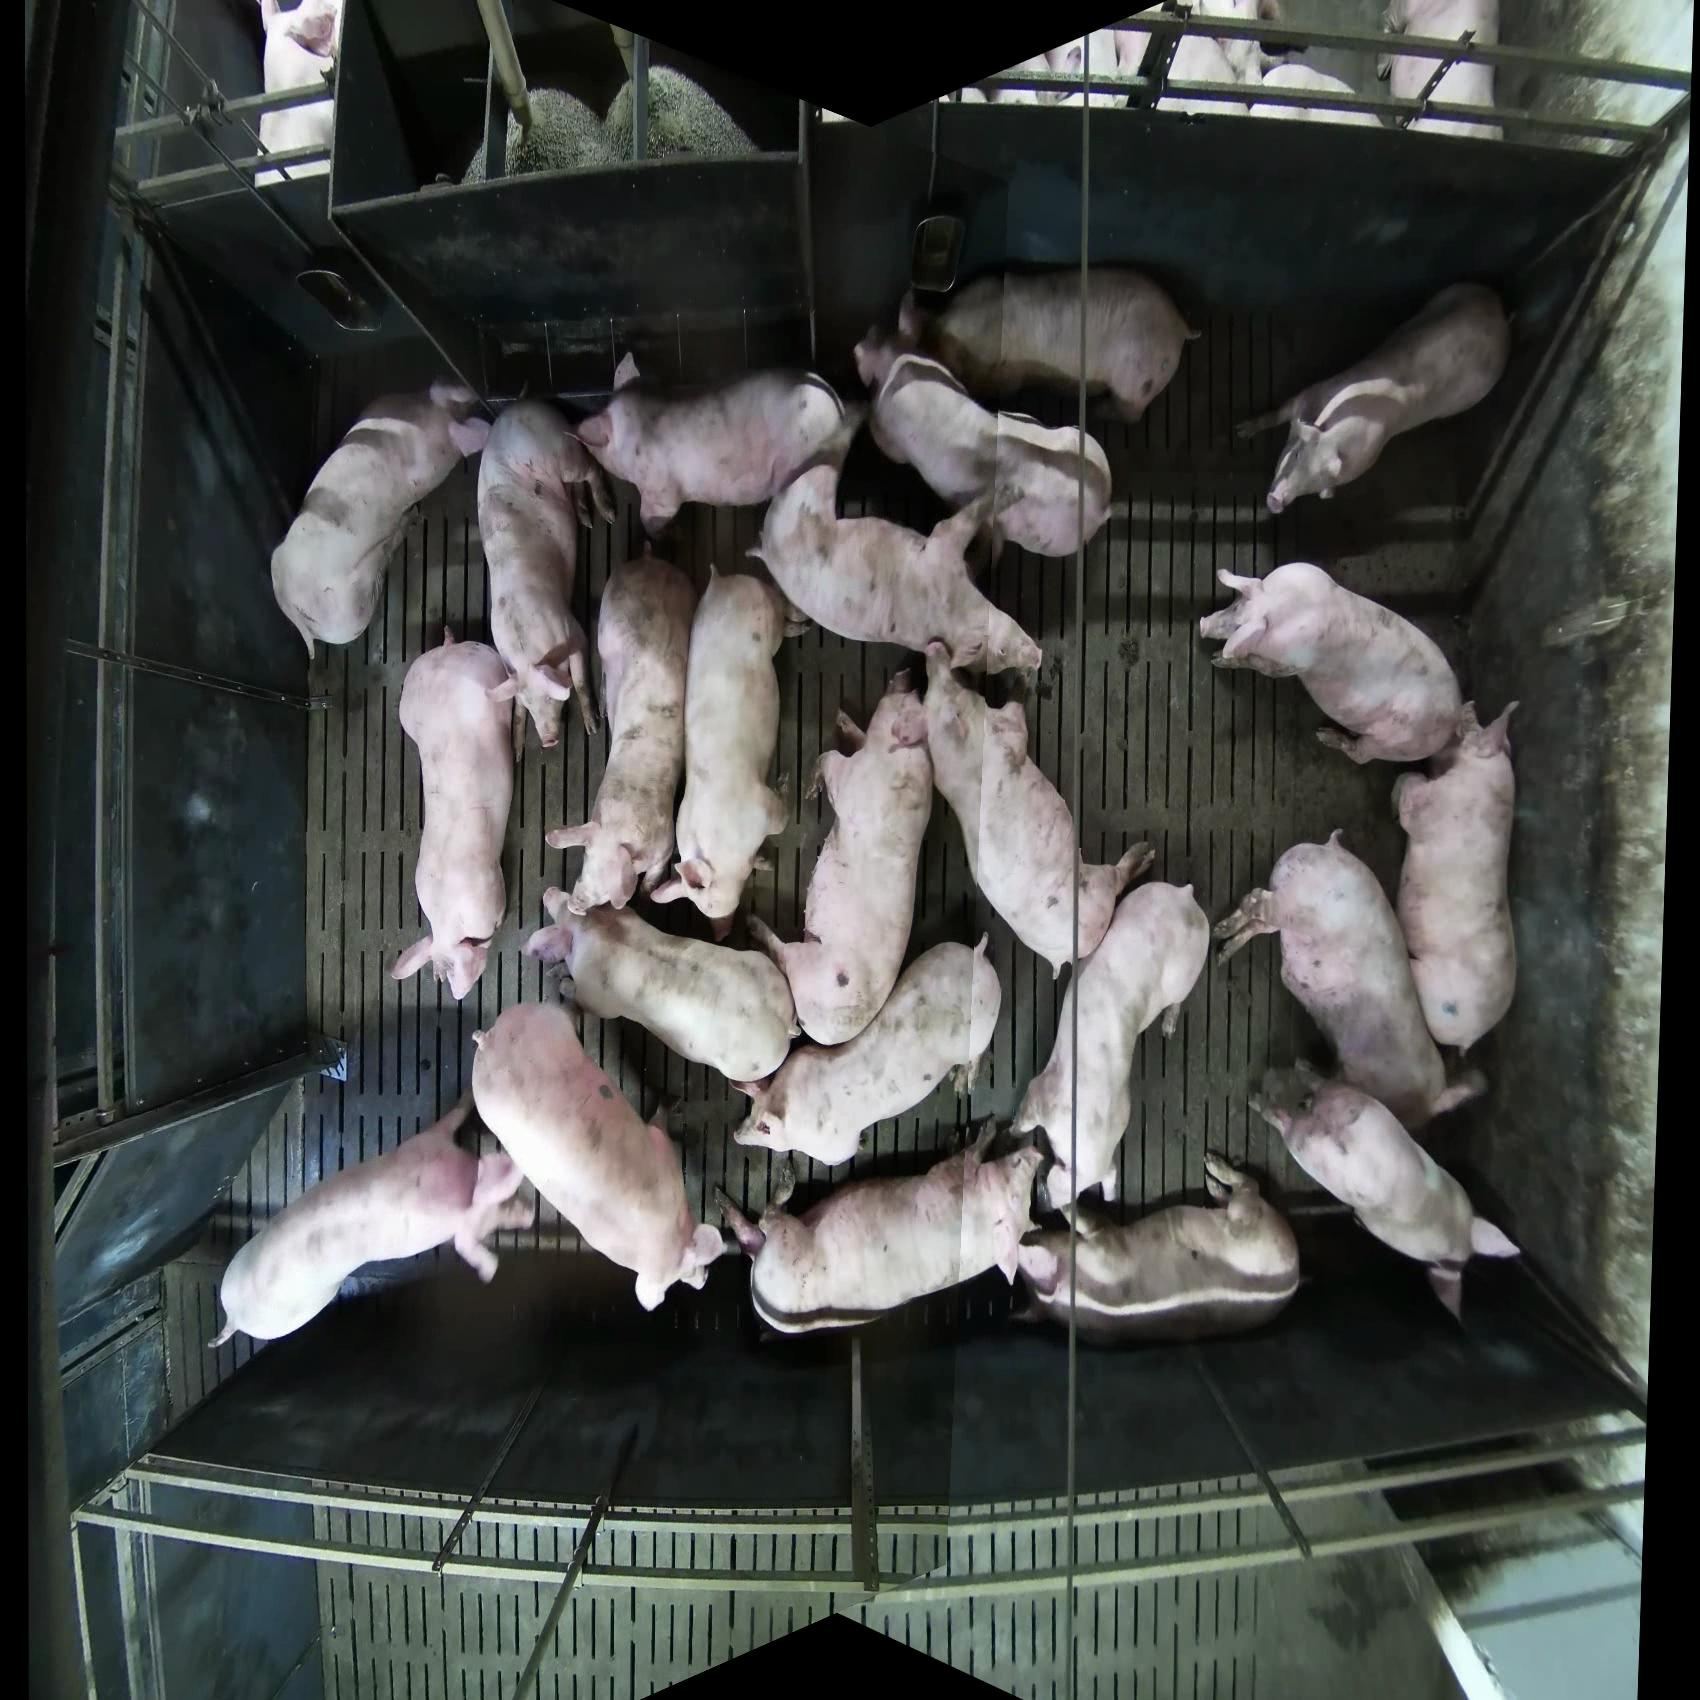pig: (205, 1091, 537, 1353), (1213, 830, 1488, 1133), (469, 998, 730, 1312), (922, 640, 1157, 979), (718, 1115, 1063, 1336), (746, 666, 936, 1048), (1252, 1063, 1523, 1326), (1007, 878, 1213, 1221), (747, 462, 1046, 685), (1235, 280, 1512, 518), (730, 933, 1004, 1168), (269, 378, 492, 662), (646, 568, 805, 936), (1197, 560, 1473, 767), (1007, 1150, 1301, 1343), (525, 884, 799, 1085), (545, 553, 696, 914), (866, 353, 1115, 565), (475, 399, 618, 750), (574, 352, 847, 536), (389, 634, 522, 1003), (1392, 697, 1521, 1057), (928, 265, 1203, 425), (255, 2, 342, 188), (1382, 2, 1501, 139), (1250, 58, 1392, 128)
